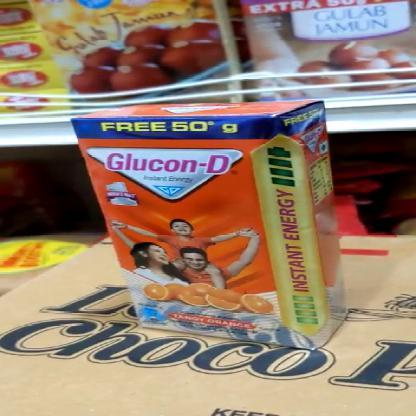Glucon D Tangy orange 1-KG: (84, 115, 317, 346)
